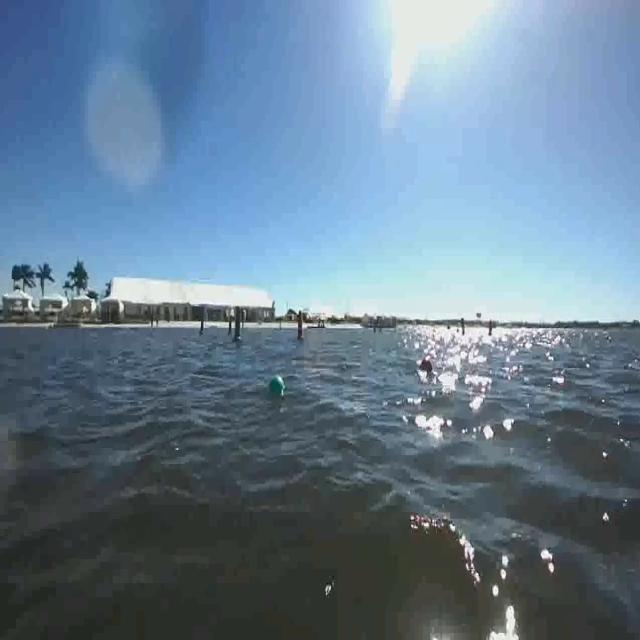green-buoy: (270, 374, 286, 394)
green-column-buoy: (234, 309, 246, 343)
red-buoy: (419, 351, 434, 376)
red-column-buoy: (295, 308, 305, 344)
